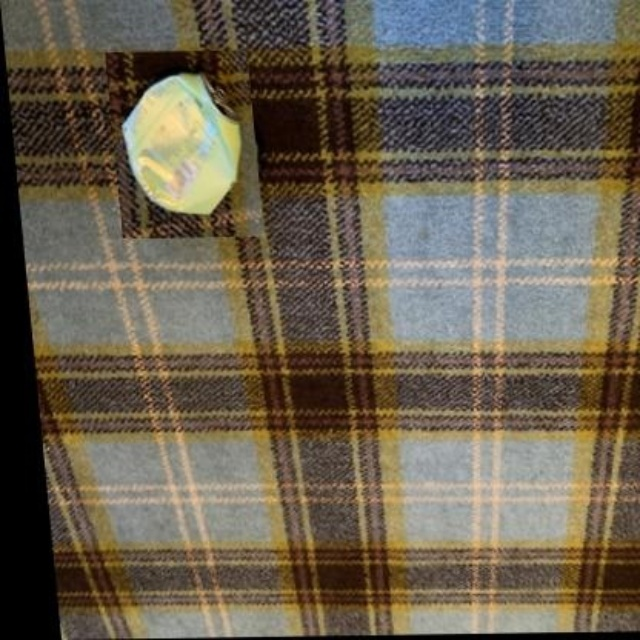trash: (123, 74, 240, 212)
